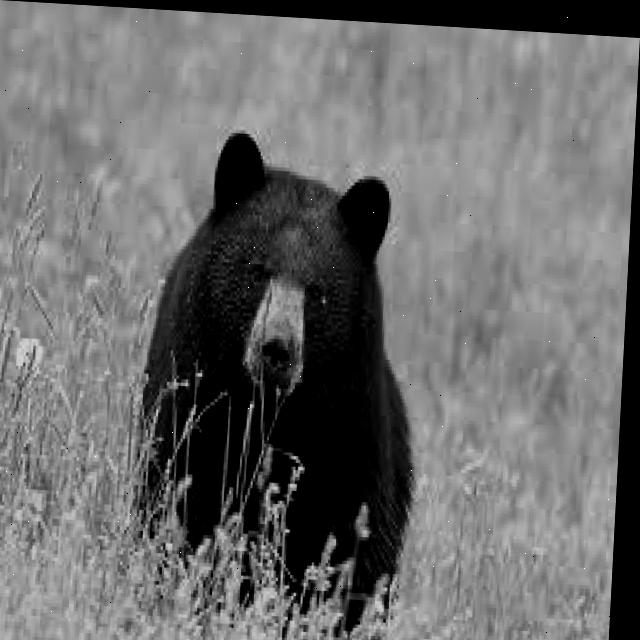Bear: (175, 128, 385, 595)
